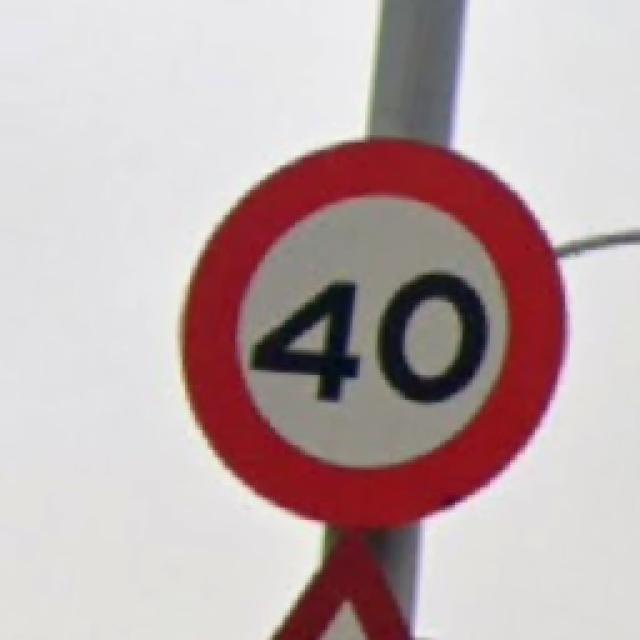Speed Limit -40-: (185, 138, 565, 522)
